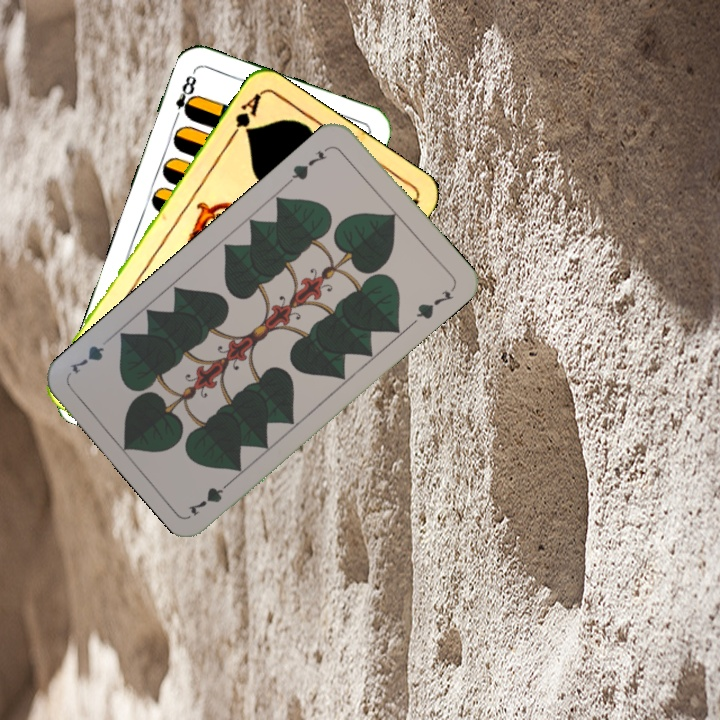E8: (169, 71, 199, 125)
G7: (184, 474, 237, 518), (284, 142, 333, 186)
GA: (225, 89, 264, 143)
